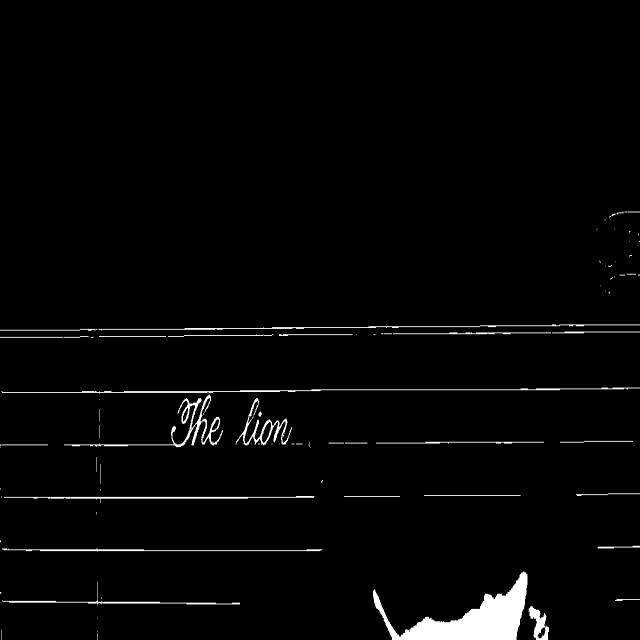hand: (372, 572, 527, 639), (530, 606, 544, 637)
noise: (0, 323, 640, 337), (0, 385, 640, 395), (0, 494, 316, 502), (0, 547, 322, 554), (2, 597, 240, 606), (326, 440, 546, 445), (423, 492, 522, 498), (63, 443, 175, 448), (597, 536, 640, 548), (556, 439, 633, 444), (613, 597, 640, 611), (575, 492, 640, 497), (96, 580, 103, 620), (344, 492, 400, 496), (96, 456, 101, 490), (0, 443, 52, 446)
not-noise: (171, 394, 224, 446), (235, 397, 292, 444)
page-marker: (596, 212, 640, 281)
